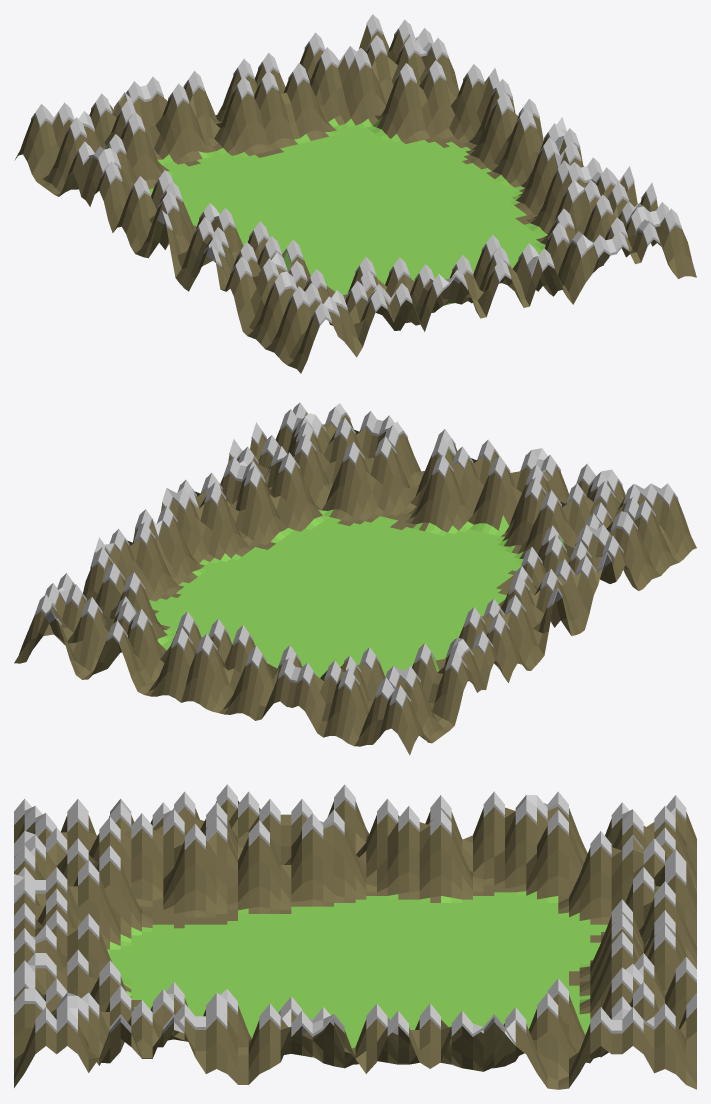
File: CircledMountains.fbx
3 views of the same model, one above another, from view 1: azimuth 30°, elevation 25°; view 2: azimuth 150°, elevation 25°; view 3: azimuth 270°, elevation 25° (orthographic). The views are drawn at different scales.
Visible parts, largest first — view 1: Plane.001; view 2: Plane.001; view 3: Plane.001.
Part boxes in pixels (x1,y1,x2,y2): Plane.001: (14, 14, 696, 373); Plane.001: (14, 402, 696, 755); Plane.001: (14, 784, 696, 1089).
Size of the model in its own units: 1380 by 213 by 1734.
